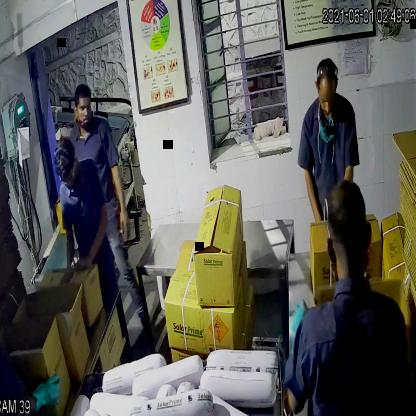no_goggles: (313, 88, 343, 109)
